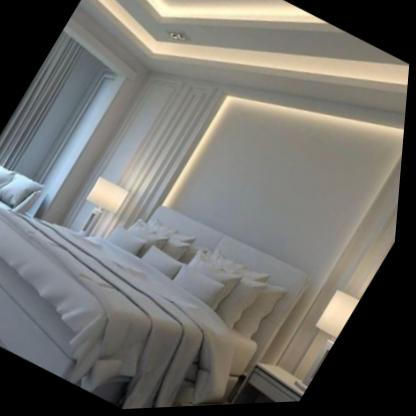Futec frame: (60, 60, 224, 254), (309, 120, 407, 337)
Gypsum Board: (53, 0, 416, 223)
